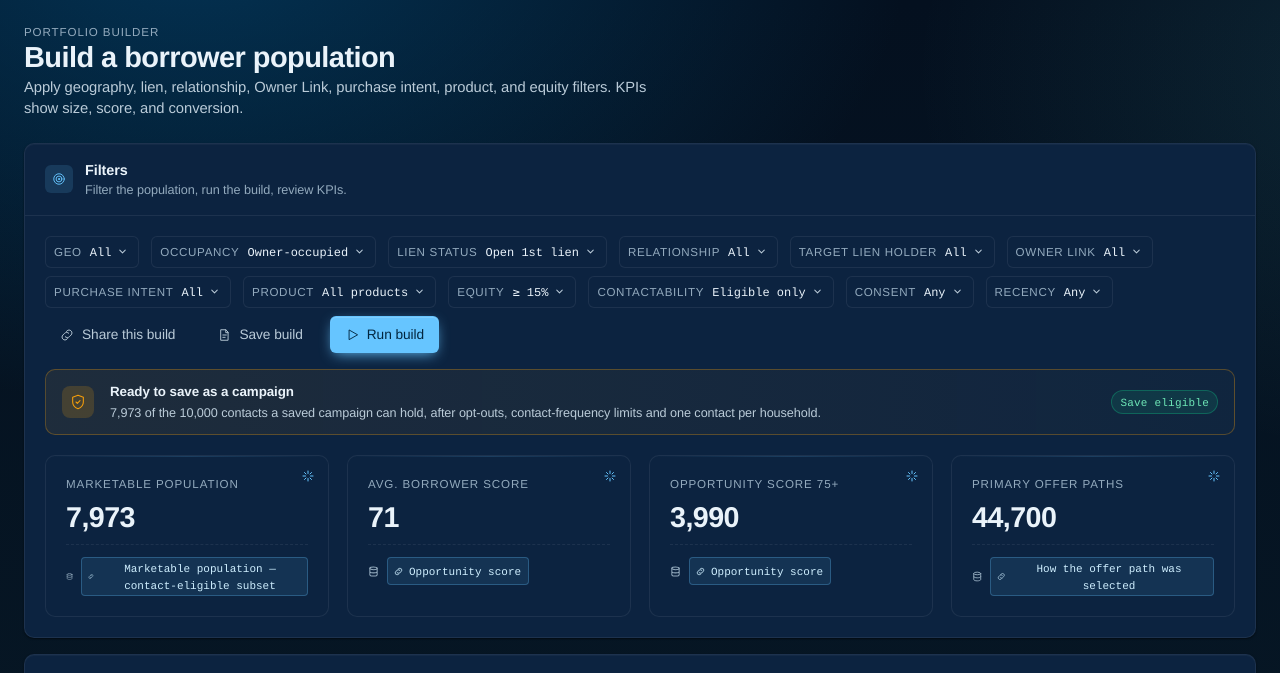
it: PortfolioBuilder save-build flow › keeps the naming panel open but blocks stale submit during a household preflight refresh
Click the button with test id "portfolio-save-build" at (260, 335), box [202, 316, 318, 353]
(page scrolled)
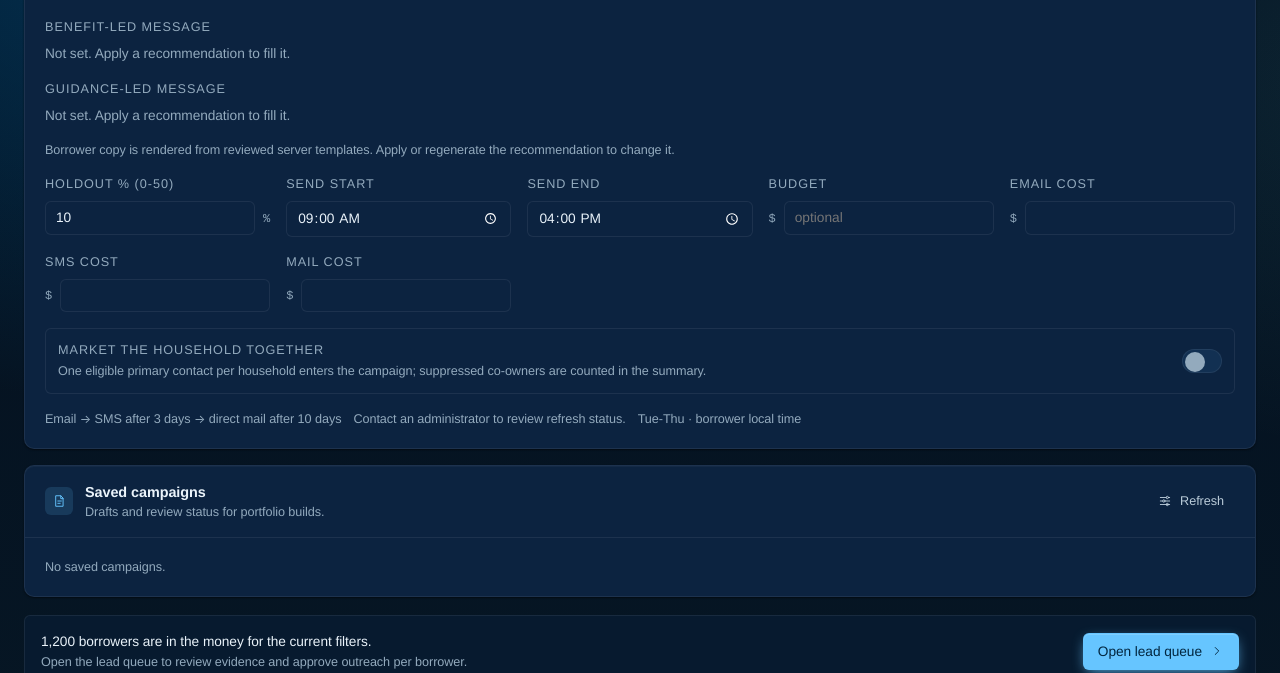
Click the button named "market the household together" at (1202, 361), box [1182, 349, 1222, 373]
(page scrolled)
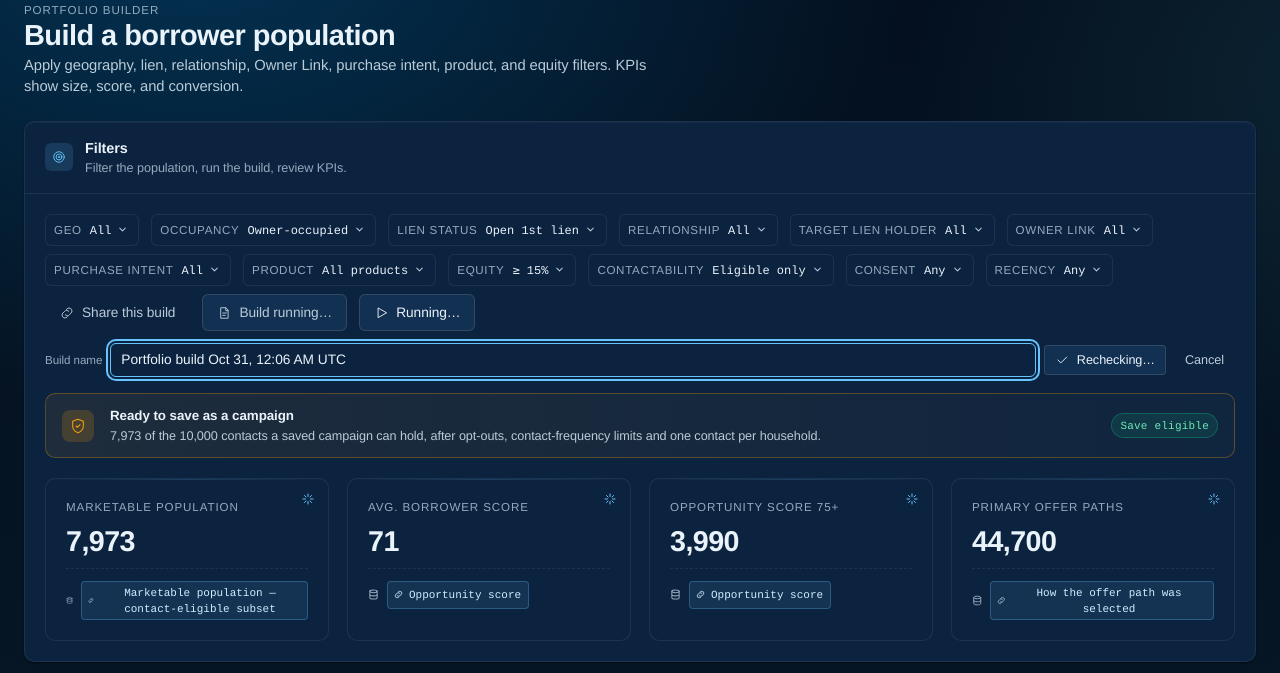
Expected: the button with test id "portfolio-save-confirm" is disabled, [1044, 345, 1166, 375]
Expected: the button with test id "portfolio-save-confirm" reads "Rechecking…", [1044, 345, 1166, 375]
Submit the form with test id "portfolio-save-confirm", box [1044, 345, 1235, 375]
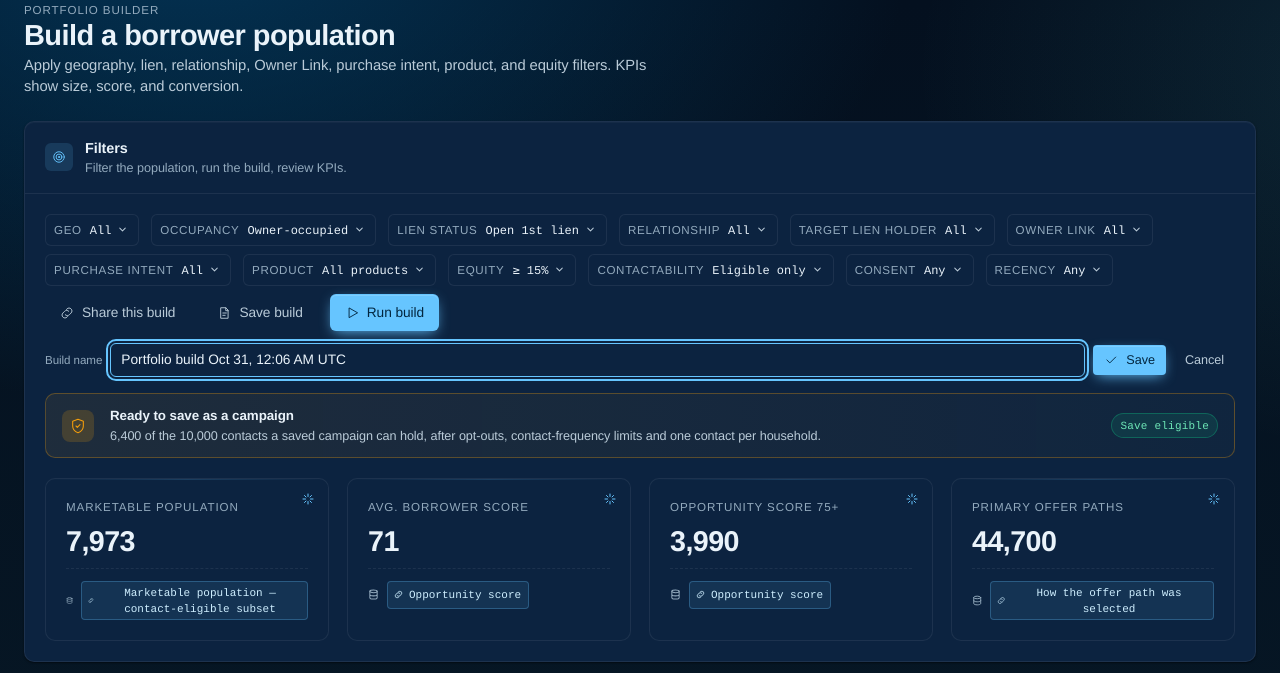
Expected: the button with test id "portfolio-save-confirm" reads "Save", [1093, 345, 1166, 375]
